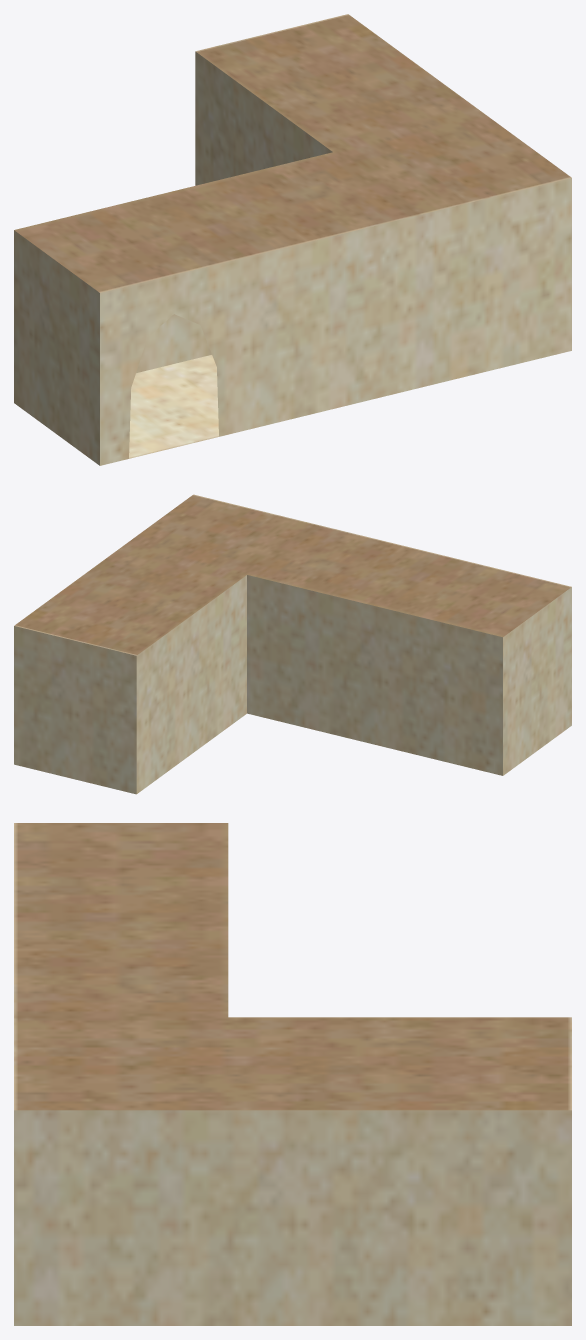
File: thm_tato_imprv_building_s03_r1_foyer_mesh_l1.fbx
3 renders of one model, top to bottom at view 1: azimuth 30°, elevation 25°; view 2: azimuth 150°, elevation 25°; view 3: azimuth 270°, elevation 25°, orthographic. The views are drawn at different scales.
Visible parts, largest first — view 1: mesh_node; view 2: mesh_node; view 3: mesh_node.
Boxes of the visible parts, bbox=[...] form: mesh_node: bbox=[14, 14, 571, 465]; mesh_node: bbox=[14, 494, 571, 794]; mesh_node: bbox=[14, 823, 571, 1325].
Size of the model in its own units: 11.42 by 4 by 9.38.
